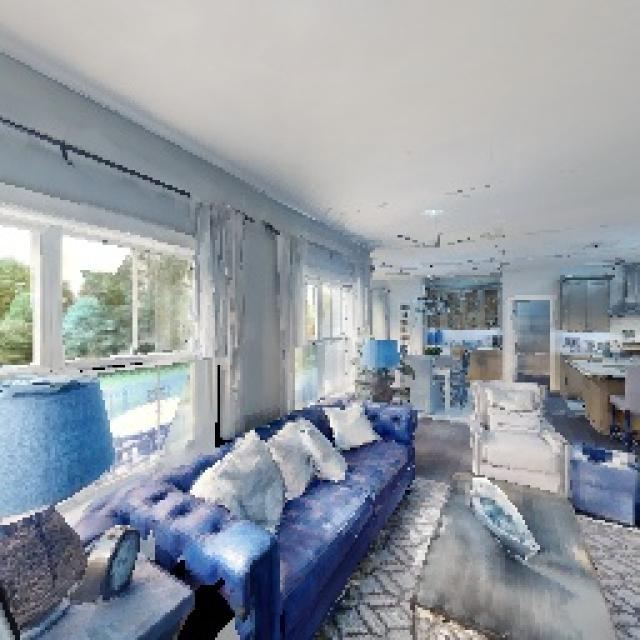door-frame: (506, 294, 560, 402)
sofa: (107, 392, 465, 634), (461, 358, 574, 524)
table: (404, 459, 601, 640)
